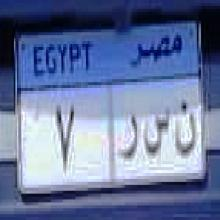7: (53, 99, 80, 171)
noon: (174, 100, 198, 162)
raa: (115, 113, 139, 164)
seen: (143, 102, 170, 163)
